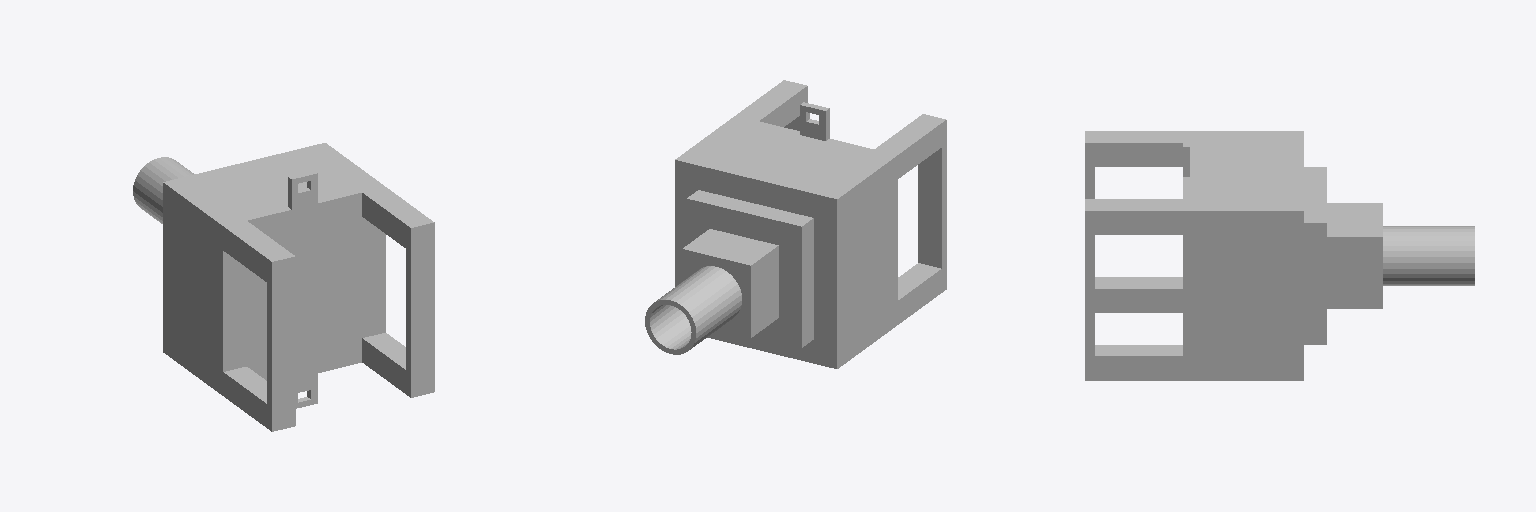
File: gun.obj
3 views of the same model, side by side, from view 1: azimuth 30°, elevation 25°; view 2: azimuth 150°, elevation 25°; view 3: azimuth 270°, elevation 25° (orthographic).
Visible parts, largest first — view 1: Cube, Cylinder; view 2: Cube, Cylinder; view 3: Cube, Cylinder.
Part boxes in pixels (x1,y1,x2,y2): Cube: (163,143,434,431); Cylinder: (133,157,193,223); Cube: (675,80,946,368); Cylinder: (645,266,741,354); Cube: (1085,131,1382,380); Cylinder: (1383,226,1474,285).
Size of the model in its own units: 2 by 2.71 by 4.15.